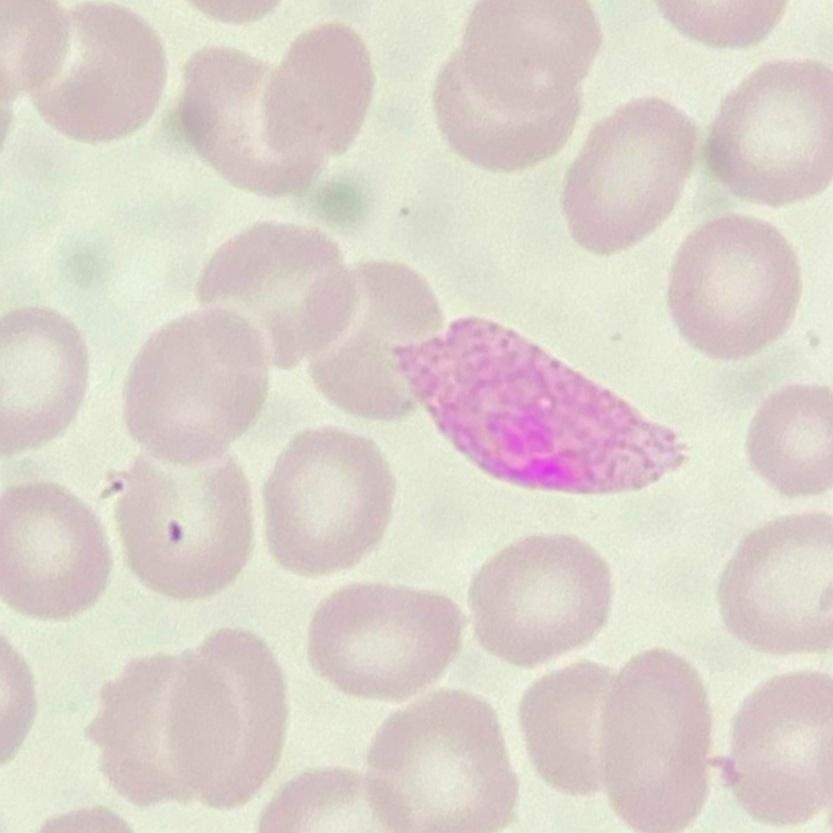Infected: (386, 313, 688, 501)
Uninfected: (123, 312, 270, 463), (307, 259, 443, 419), (93, 659, 237, 806), (198, 222, 355, 354), (367, 693, 514, 831), (174, 627, 289, 803), (598, 647, 709, 829), (116, 455, 255, 600), (562, 103, 694, 251), (434, 41, 585, 167), (261, 429, 394, 572), (469, 534, 611, 663), (307, 581, 460, 700), (179, 48, 305, 189), (674, 215, 797, 359), (710, 60, 833, 204), (42, 5, 167, 142), (265, 24, 374, 165), (728, 669, 828, 819), (722, 515, 831, 652), (461, 0, 596, 110), (0, 483, 107, 619), (0, 307, 90, 454), (520, 663, 618, 795), (746, 384, 832, 496)
